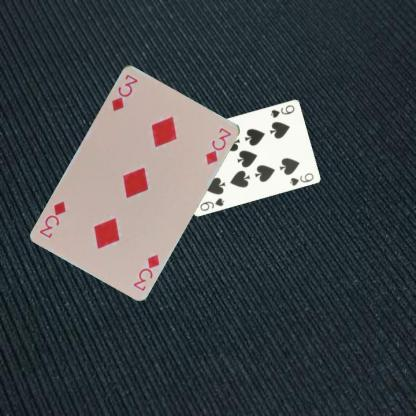3d: (130, 251, 161, 292), (109, 71, 139, 112)
9s: (268, 102, 296, 119), (198, 195, 225, 212)
